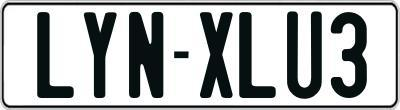3: (330, 11, 369, 103)
L: (37, 9, 80, 95), (236, 12, 274, 100)
N: (129, 11, 165, 103)
U: (287, 11, 324, 100)
X: (199, 9, 238, 100)
Y: (83, 10, 116, 100)
